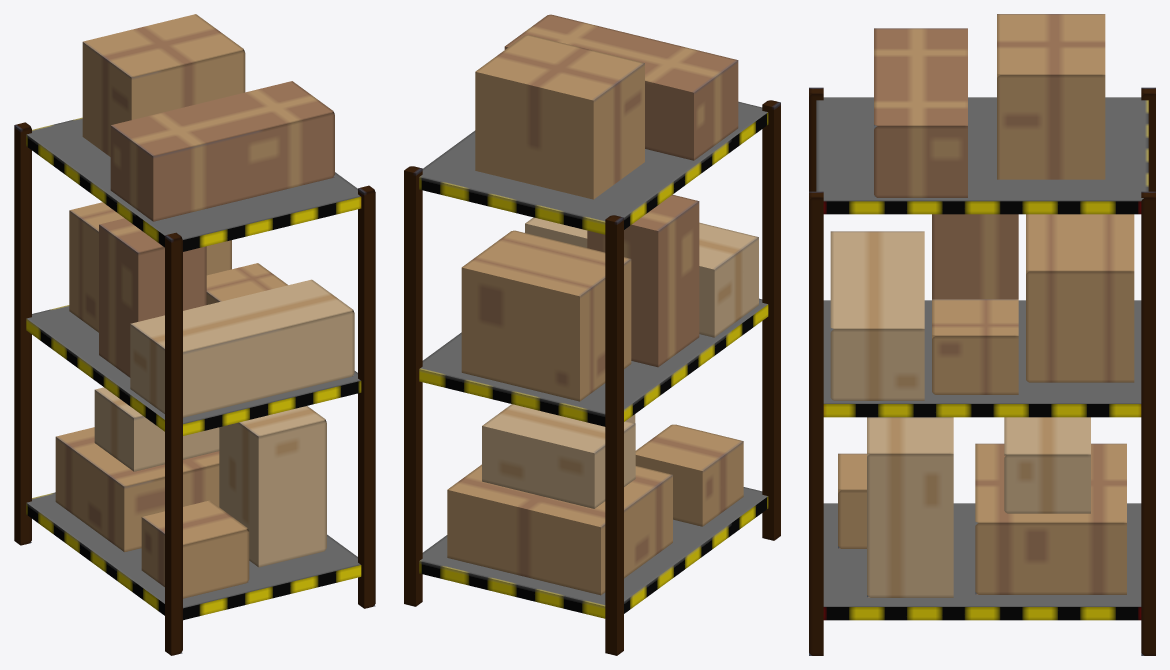
The model's file is shelf2.fbx.
3 renders of one model, left to right at view 1: azimuth 30°, elevation 25°; view 2: azimuth 150°, elevation 25°; view 3: azimuth 270°, elevation 25°, orthographic. The views are drawn at different scales.
Visible parts, largest first — view 1: cube_7, cube_8, cube_13, cube_10, cube_6, cube_9, cube_4, cube_14, cube_5, cube_2, cube_3, cube_1 (+4 smaller); view 2: cube_10, cube_11, cube_9, cube_6, cube_7, cube_14, cube_16, cube_4, cube_5, cube_1, cube, cube_2 (+2 smaller); view 3: cube_6, cube_11, cube_10, cube_9, cube_8, cube_7, cube_13, cube_4, cube_5, cube_16, cube_15, cube_14 (+5 smaller).
Part boxes in pixels (box(x1,y1,x2,y2)): cube_7: box(110, 81, 334, 221); cube_8: box(130, 279, 354, 417); cube_13: box(219, 406, 326, 567); cube_10: box(82, 14, 245, 156); cube_6: box(26, 117, 361, 251); cube_9: box(55, 427, 219, 552); cube_4: box(26, 492, 361, 620); cube_14: box(99, 218, 206, 377); cube_5: box(26, 305, 361, 435); cube_2: box(165, 232, 182, 655); cube_3: box(358, 185, 375, 608); cube_1: box(14, 122, 31, 545); cube_10: box(475, 35, 644, 199); cube_11: box(461, 230, 631, 401); cube_9: box(447, 464, 672, 595); cube_6: box(419, 101, 768, 234); cube_7: box(504, 14, 738, 160); cube_14: box(587, 194, 699, 367); cube_16: box(482, 404, 635, 508); cube_4: box(419, 487, 768, 618); cube_5: box(419, 298, 768, 426); cube_1: box(605, 215, 623, 655); cube: box(404, 166, 422, 606); cube_2: box(762, 100, 780, 540); cube_6: box(816, 97, 1148, 214); cube_11: box(1026, 214, 1134, 382); cube_10: box(997, 14, 1105, 179); cube_9: box(975, 443, 1126, 594); cube_8: box(830, 231, 924, 400); cube_7: box(874, 28, 967, 197); cube_13: box(867, 417, 953, 597); cube_4: box(823, 503, 1141, 620); cube_5: box(823, 300, 1141, 417); cube_16: box(1004, 417, 1090, 513); cube_15: box(932, 299, 1018, 394); cube_14: box(932, 214, 1018, 299).
Bounding box in the file's own units: 225 × 531 × 300.
1 material, 1 textured.
